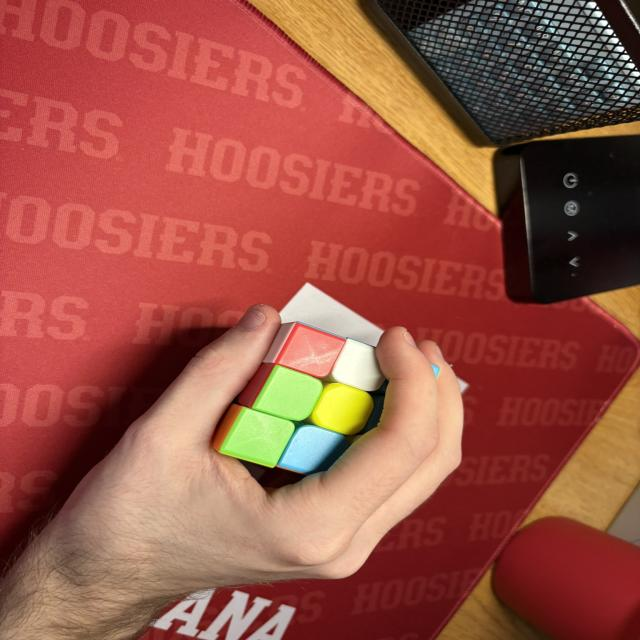Rubiks Cube: (208, 322, 388, 476), (431, 364, 441, 380)
